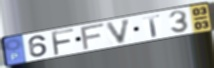3: (168, 9, 190, 35)
6: (28, 35, 50, 59)
F: (79, 22, 107, 52), (49, 28, 76, 57)
T: (142, 13, 162, 38)
V: (105, 17, 134, 45)
